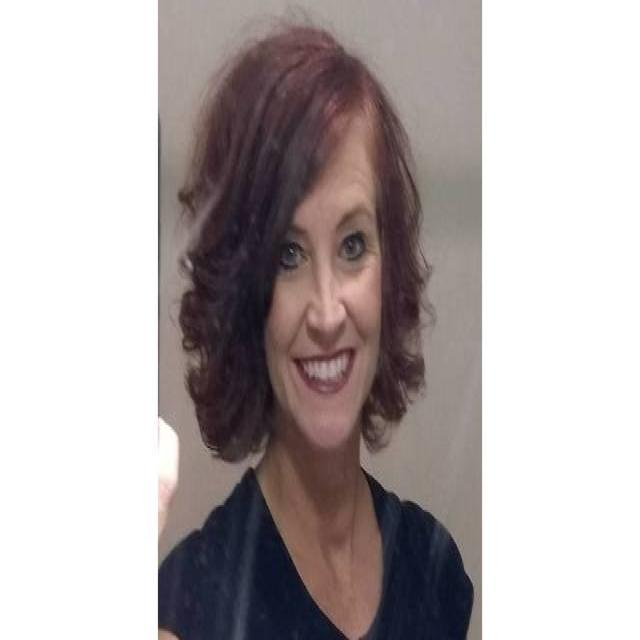mobile_phonerotation: (157, 16, 476, 638)
